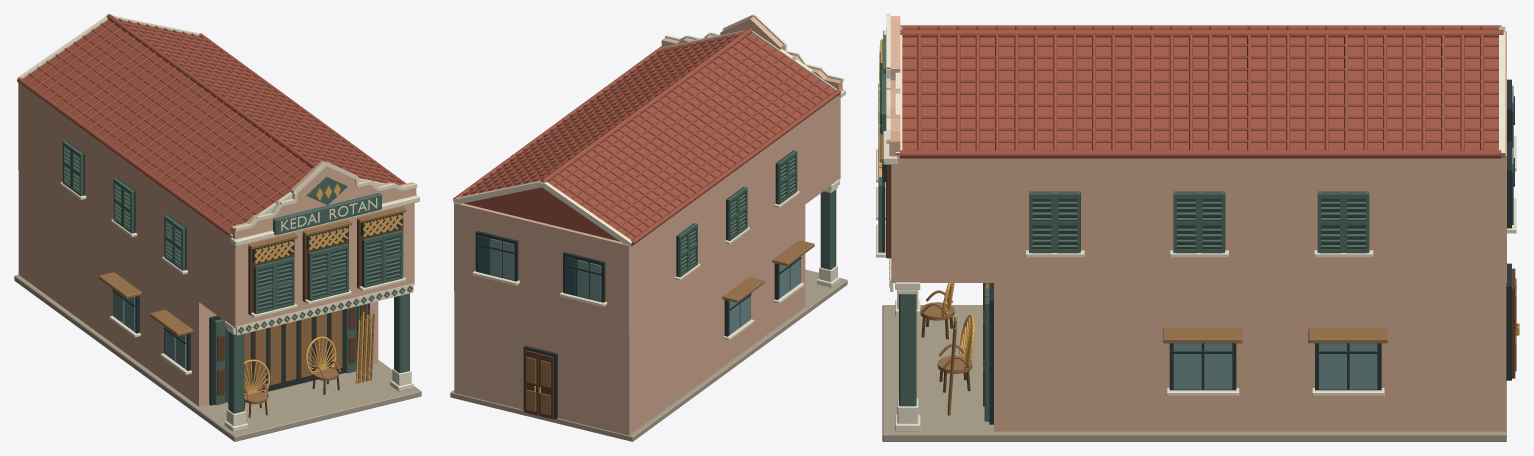
3 renders of one model, left to right at view 1: azimuth 30°, elevation 25°; view 2: azimuth 150°, elevation 25°; view 3: azimuth 270°, elevation 25°, orthographic. The views are drawn at different scales.
Parts seen in each view (by area): view 1: Shophouse envelope, Pitched roof, Louvred shutters, Gabled sign wall, Upper timber screen, Bent cane furniture, Casement assemblies, Street lettering, Encaustic tile frieze, Woven lattice, Monsoon sunhoods, Cane stock (+1 smaller); view 2: Shophouse envelope, Pitched roof, Casement assemblies, Louvred shutters, Entrance joinery, Raking bargeboards, Gabled sign wall, Monsoon sunhoods; view 3: Shophouse envelope, Pitched roof, Louvred shutters, Casement assemblies, Monsoon sunhoods, Bent cane furniture, Gabled sign wall, Raking bargeboards, Entrance joinery, Upper timber screen.
Part boxes in pixels (x1,y1,x2,y2): Shophouse envelope: (14, 83, 421, 441); Pitched roof: (17, 14, 405, 237); Louvred shutters: (60, 140, 405, 317); Gabled sign wall: (231, 160, 417, 239); Upper timber screen: (230, 194, 419, 315); Bent cane furniture: (244, 336, 340, 417); Casement assemblies: (109, 289, 191, 374); Street lettering: (273, 192, 381, 235); Encaustic tile frieze: (236, 283, 413, 335); Woven lattice: (254, 214, 402, 263); Monsoon sunhoods: (98, 272, 193, 336); Cane stock: (355, 310, 374, 383); Shophouse envelope: (450, 95, 847, 441); Pitched roof: (453, 28, 840, 246); Casement assemblies: (472, 231, 804, 340); Louvred shutters: (675, 150, 799, 280); Entrance joinery: (523, 345, 557, 419); Raking bargeboards: (453, 30, 840, 246); Gabled sign wall: (661, 14, 843, 91); Monsoon sunhoods: (722, 240, 814, 302); Shophouse envelope: (882, 31, 1506, 441); Pitched roof: (900, 25, 1503, 158); Louvred shutters: (876, 83, 1373, 257); Casement assemblies: (1166, 79, 1516, 395); Monsoon sunhoods: (1163, 328, 1387, 343); Bent cane furniture: (920, 283, 974, 392); Gabled sign wall: (880, 14, 900, 158); Raking bargeboards: (895, 26, 1505, 158); Entrance joinery: (1506, 263, 1519, 380); Upper timber screen: (879, 30, 897, 258).
Size of the model in its own units: 7.45 by 8.65 by 13.91.
